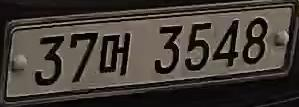3: (31, 33, 65, 88), (152, 21, 183, 76)
4: (212, 16, 241, 69)
5: (185, 20, 211, 72)
7: (68, 29, 99, 84)
8: (240, 14, 272, 67)
머: (99, 30, 134, 78)
